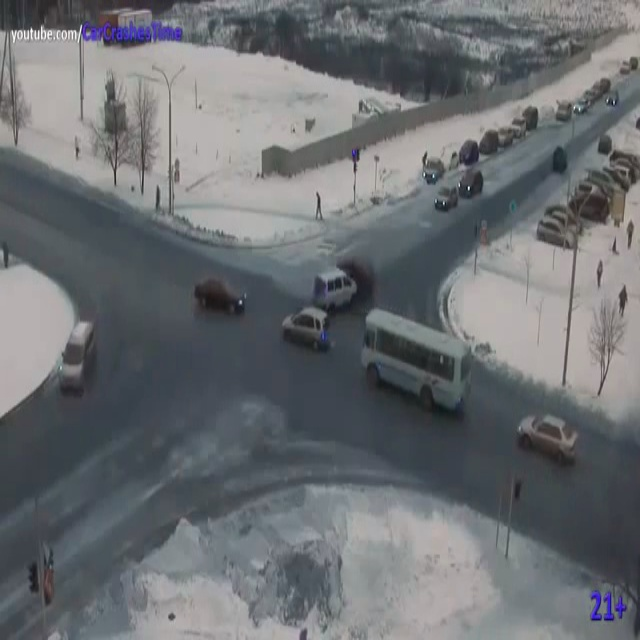acc: (303, 243, 381, 313)
